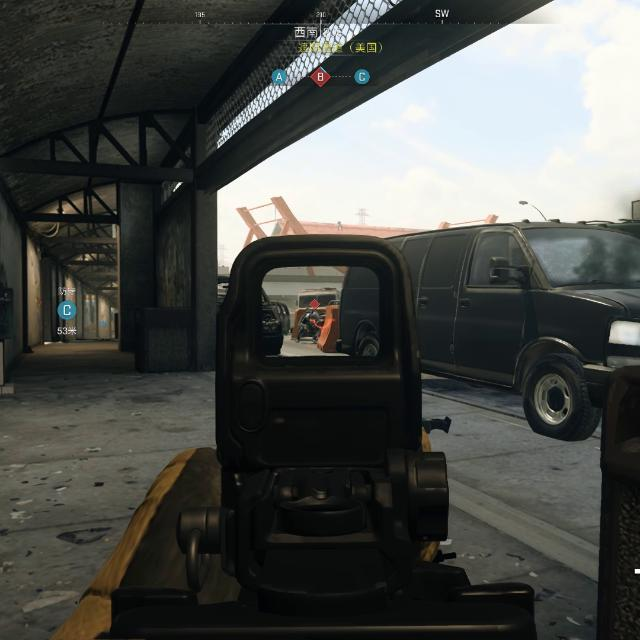MW2_body: (296, 299, 325, 344)
